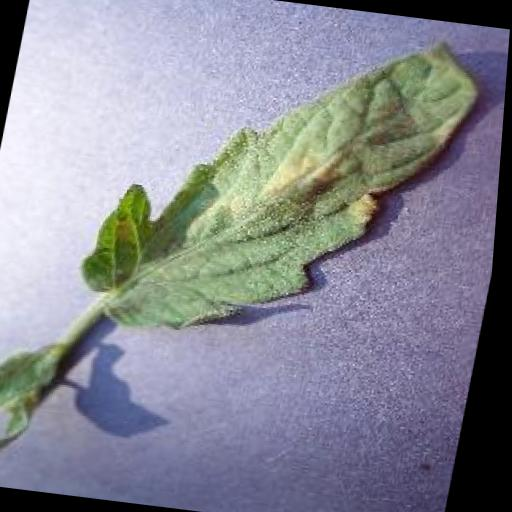Leaf Mold: (71, 4, 490, 364)
